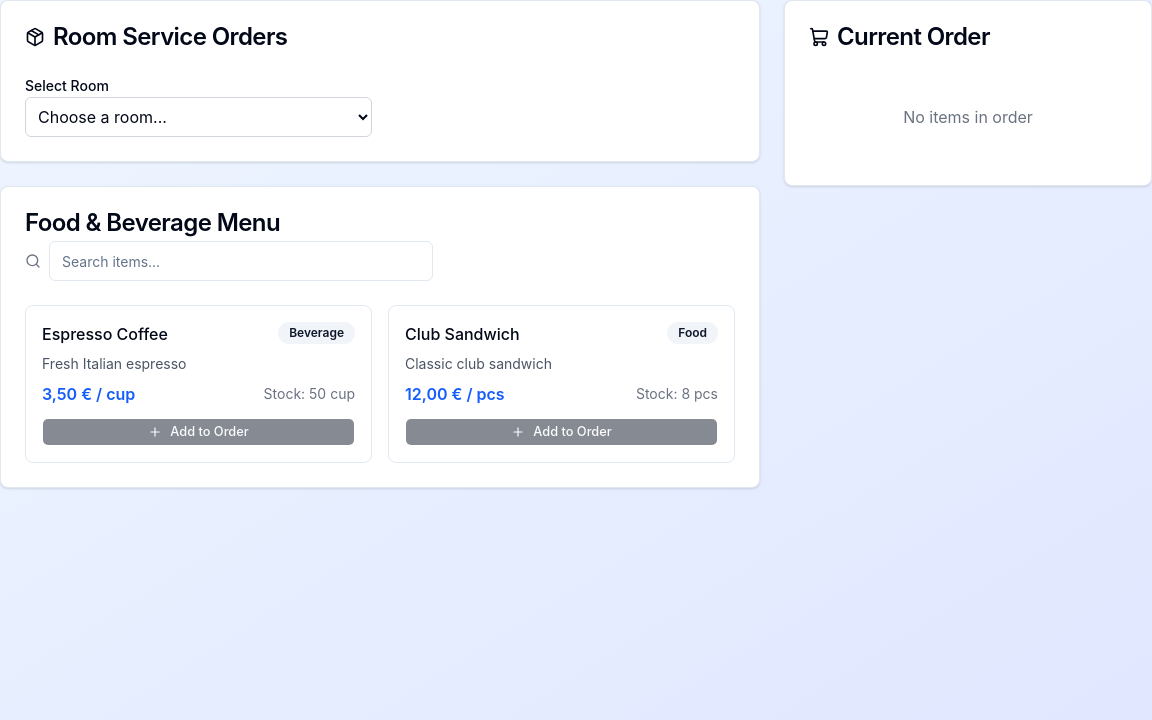
Test: RoomServiceOrders › adding items to order › increases quantity when adding same item twice
Select "Room 101 - BD" in the dropdown at (198,117), box [25,97,372,137]
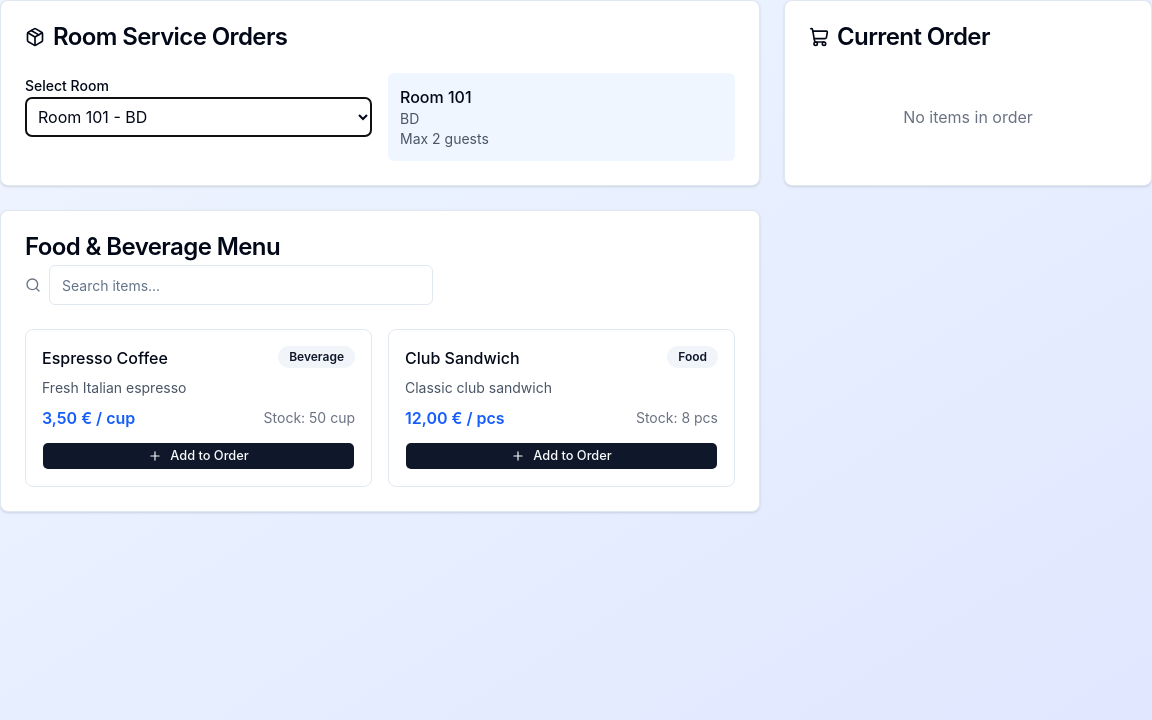
Click the button "Add to Order" below "3,50 €" at (198,456), box [42,442,355,470]
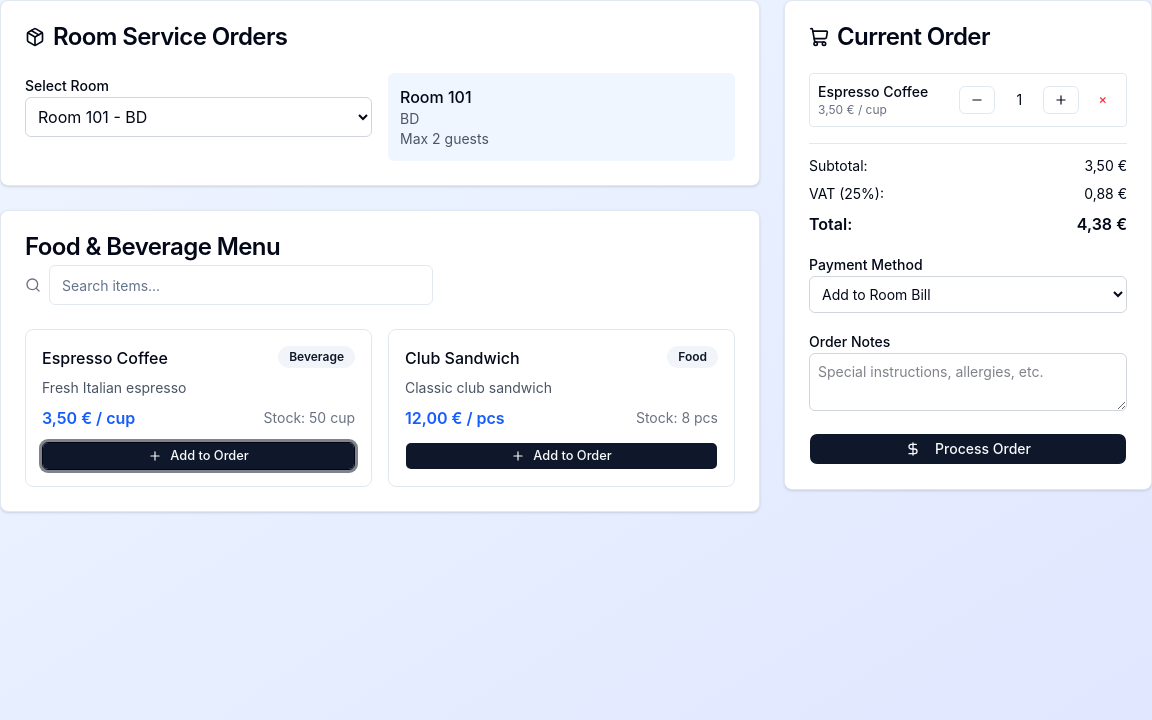
Click the button "Add to Order" below "Fresh Italian espresso" at (198,456), box [42,442,355,470]
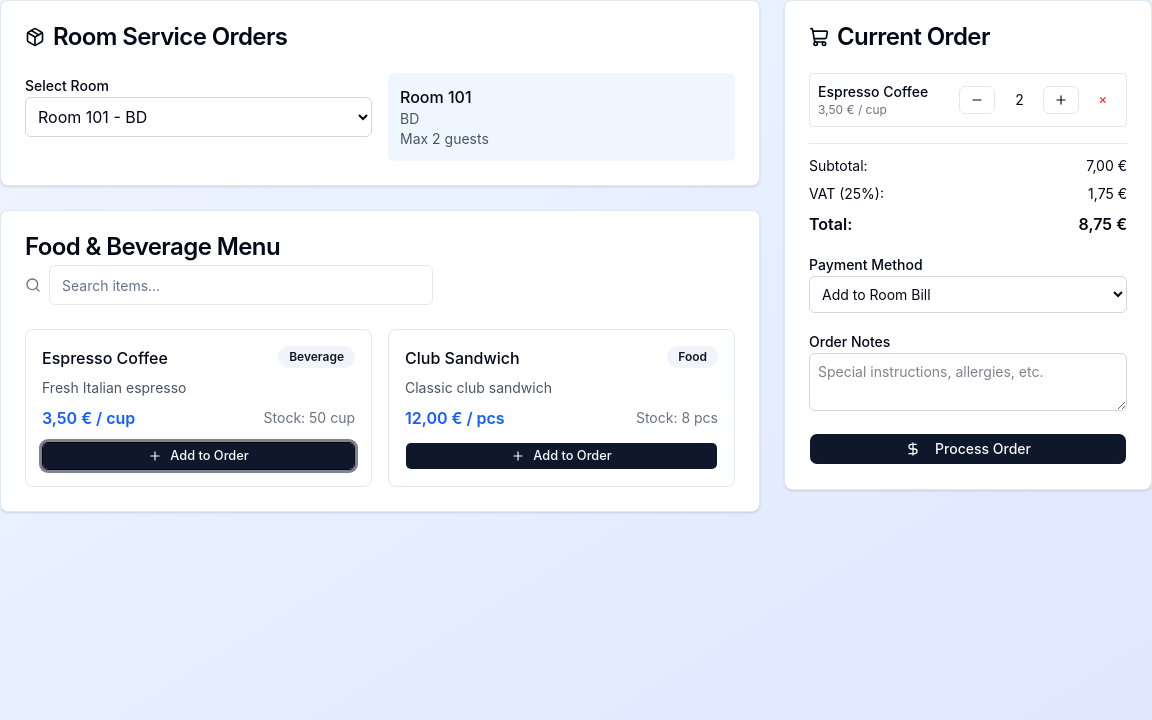
Expected: the text "2" is shown, [1015,91,1024,108]
